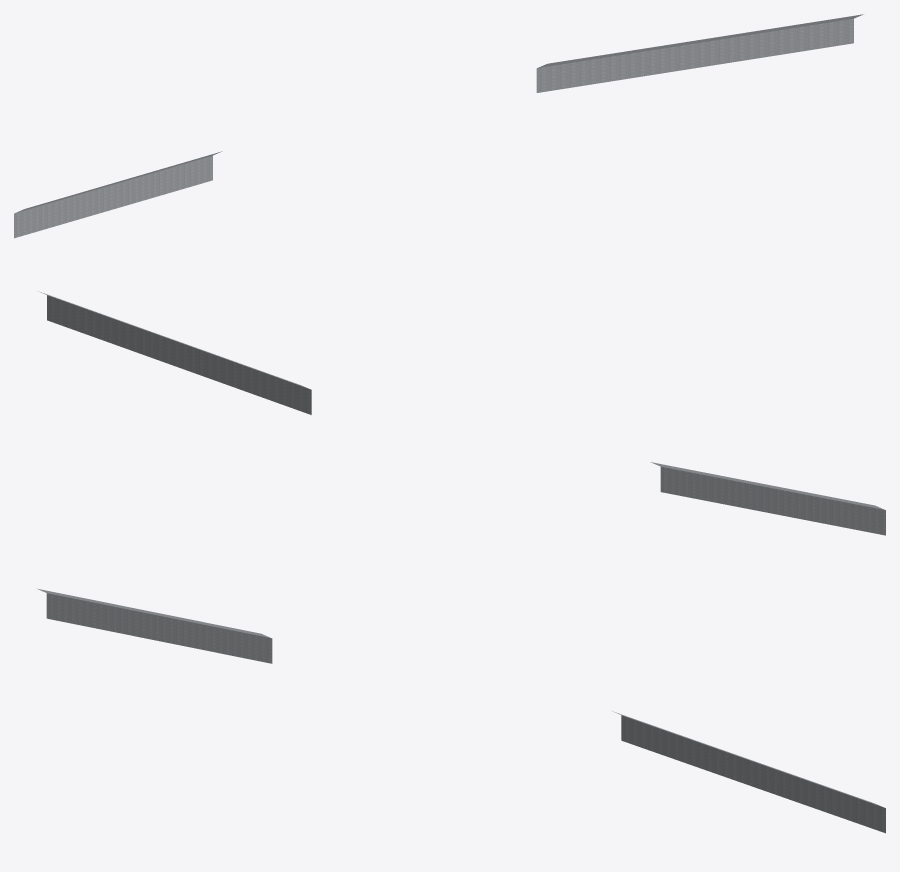
Rendered from kd_stage_136282_2_30_bounded.glb.
The picture shows the model from 3 angles, top to bottom: view 1: azimuth 30°, elevation 25°; view 2: azimuth 150°, elevation 25°; view 3: azimuth 330°, elevation 25°; orthographic projection. The views are drawn at different scales.
Visible parts, largest first — view 1: kd_stage_136282_2_30_bounded; view 2: kd_stage_136282_2_30_bounded; view 3: kd_stage_136282_2_30_bounded.
Boxes of the visible parts, x1=… form: kd_stage_136282_2_30_bounded: x1=14, y1=14, x2=863, y2=238; kd_stage_136282_2_30_bounded: x1=38, y1=291, x2=885, y2=535; kd_stage_136282_2_30_bounded: x1=37, y1=588, x2=885, y2=833.
Bounding box in the file's own units: 105 × 4.6 × 13.44.
Materials: 1 (1 with a texture image).
